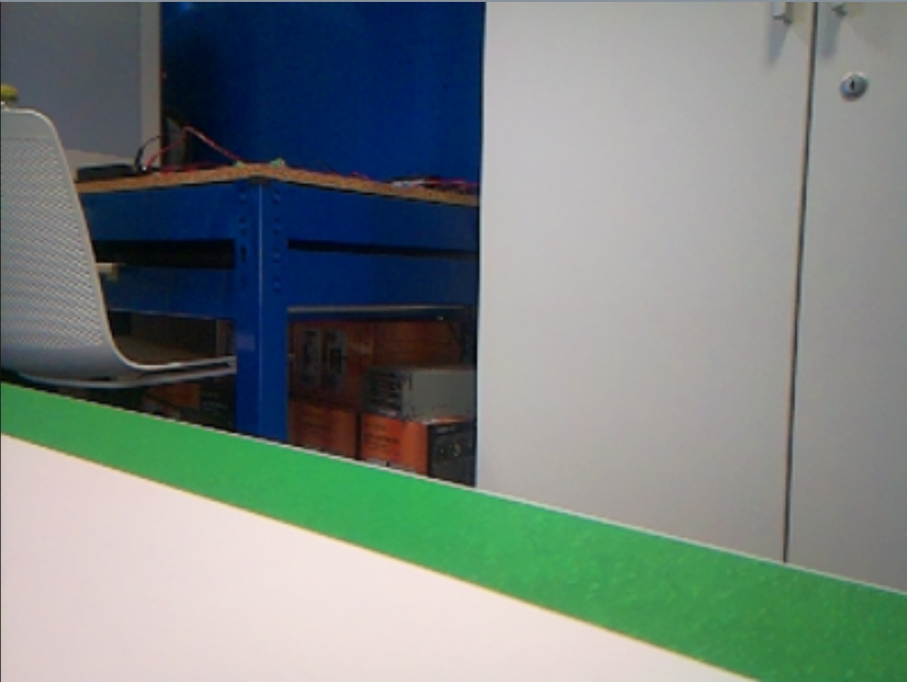linea_cerca: (0, 382, 907, 682)
